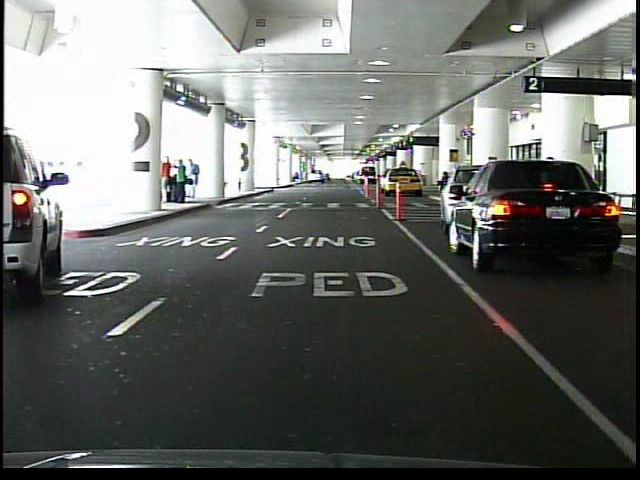person: (174, 160, 189, 205), (163, 154, 175, 205), (187, 159, 200, 201)
